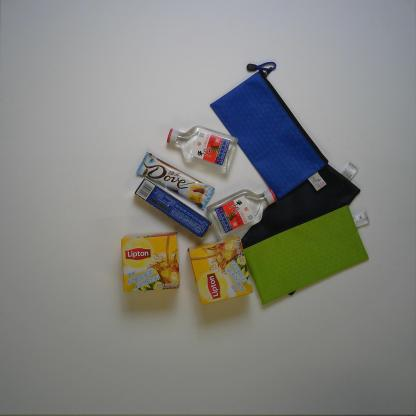Alcohol: (162, 124, 240, 176), (204, 186, 279, 240)
Chocolate: (132, 150, 216, 211)
Instant Drink: (185, 233, 256, 308), (118, 229, 182, 295)
Personal Hygiene: (132, 175, 215, 241)
Stationery: (235, 157, 364, 298), (207, 58, 330, 204), (240, 201, 374, 310)
